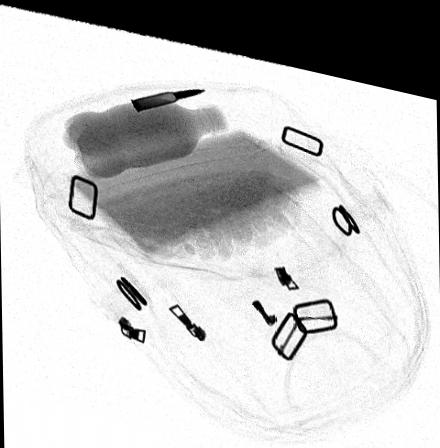Bullet: (129, 77, 206, 107)
